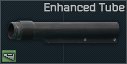HK Enhanced Tube buffer tube: (0, 0, 127, 64)
